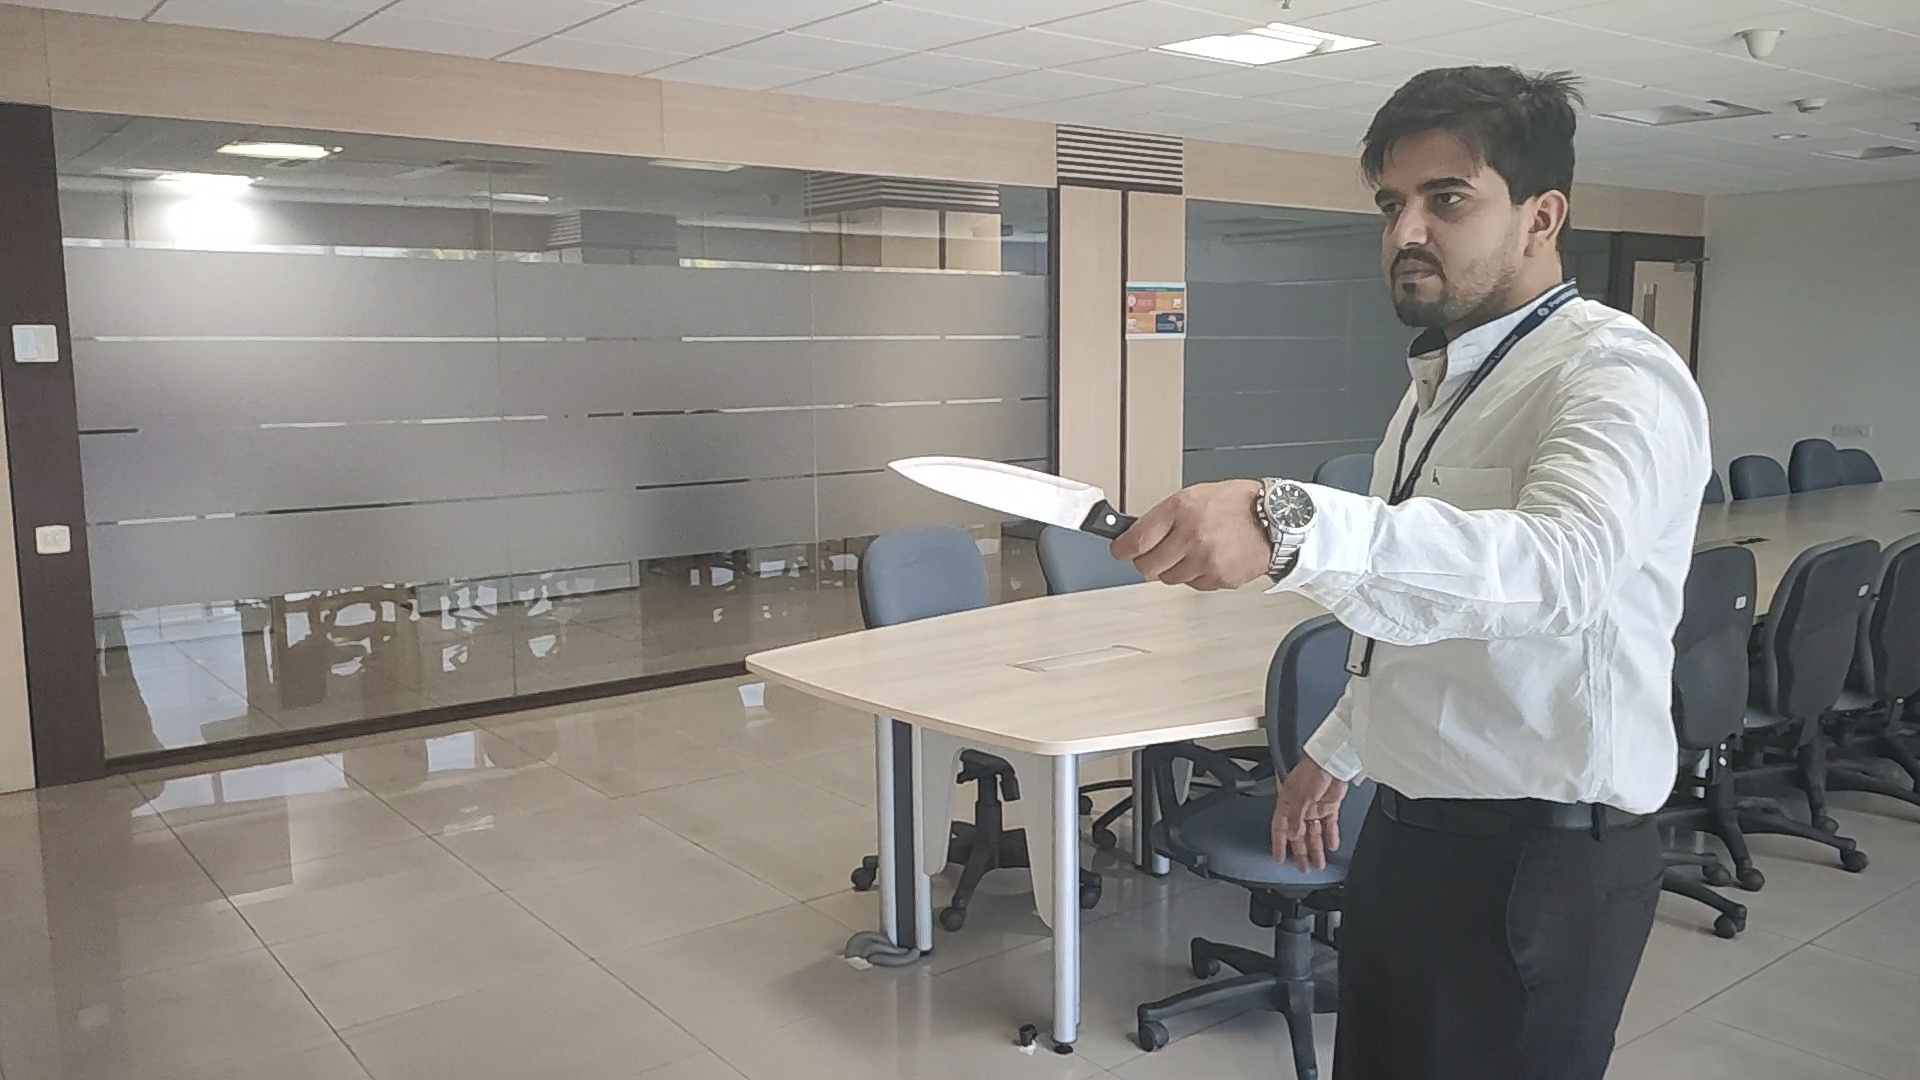knife: (890, 448, 1133, 539)
